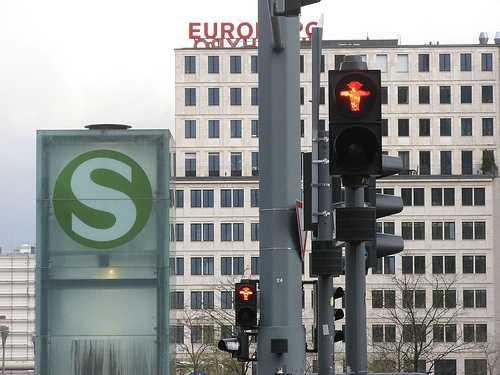red: (328, 70, 380, 175), (332, 72, 380, 118), (236, 279, 257, 327), (236, 279, 255, 305)
